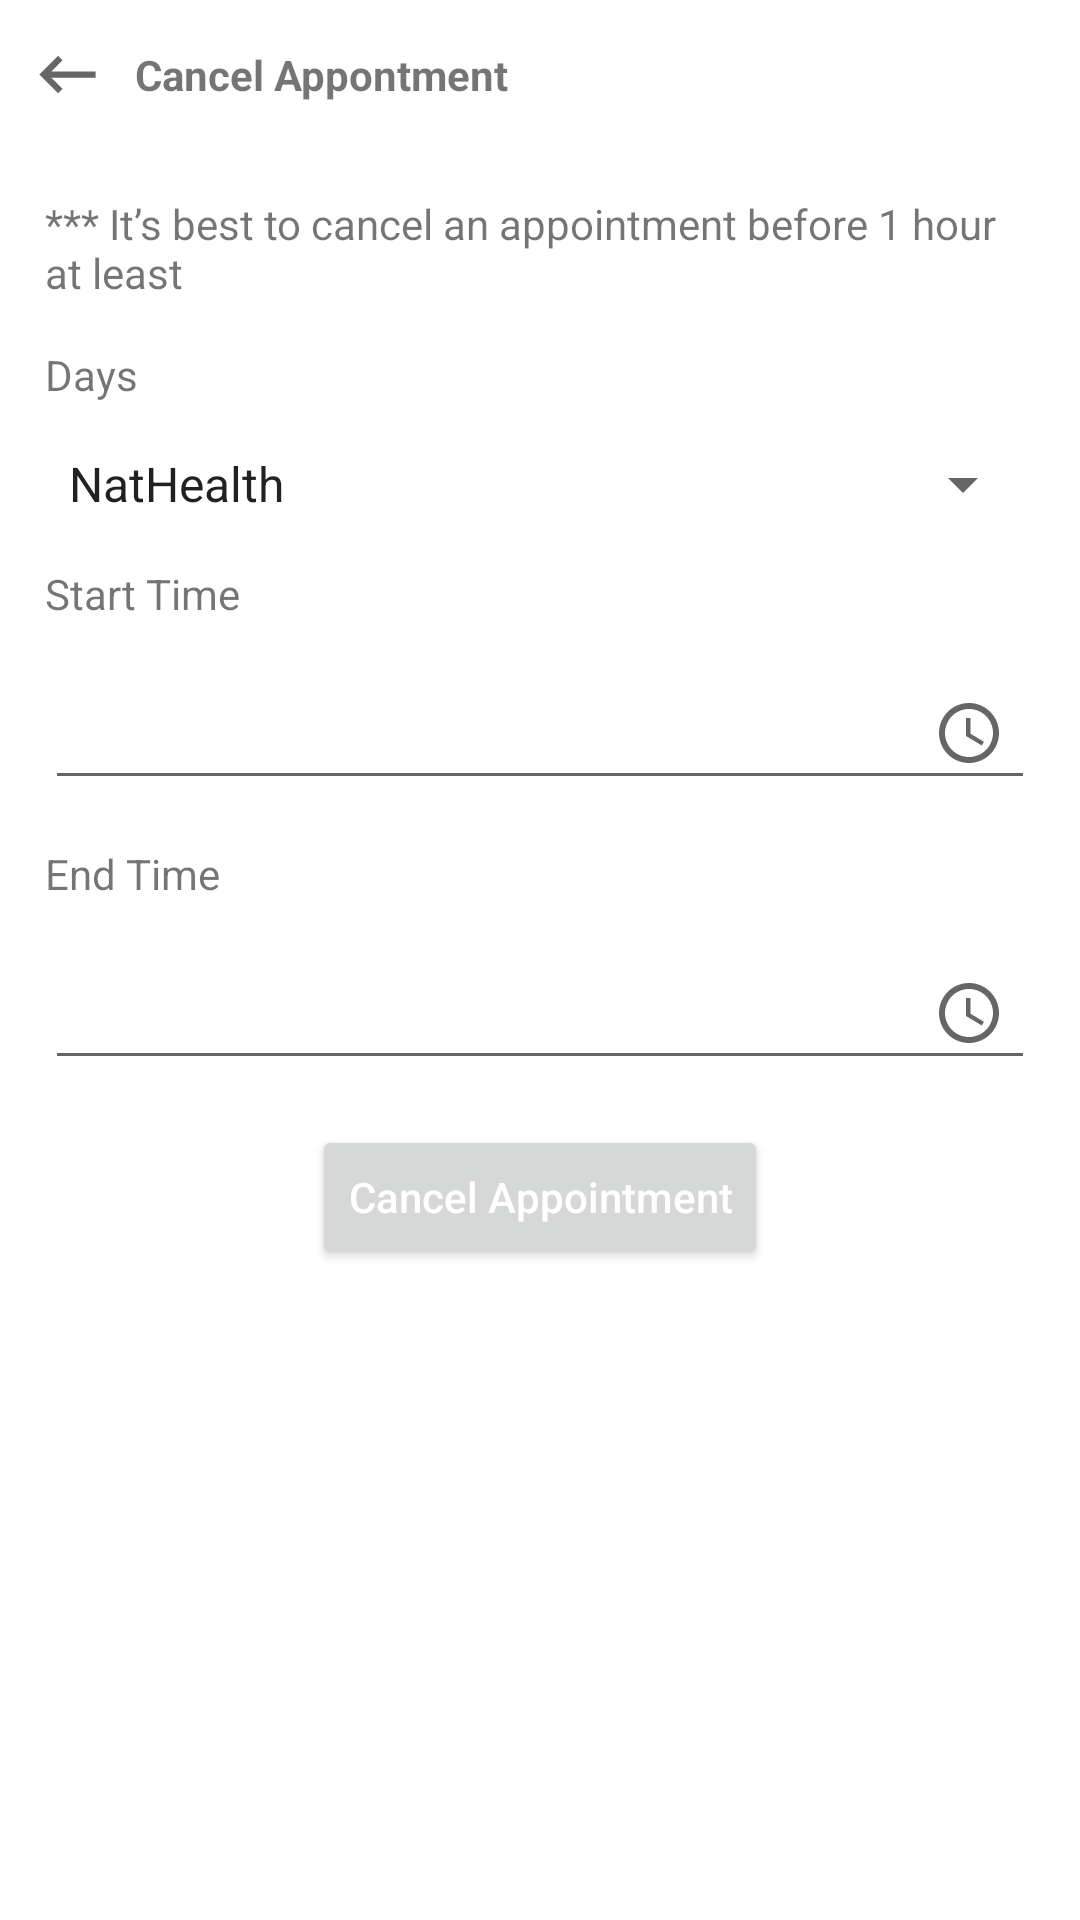

Icons on this 1080*1920 Android screen, each with its box as [x1,y1,x2,y2]:
back: [39,56,96,93]
